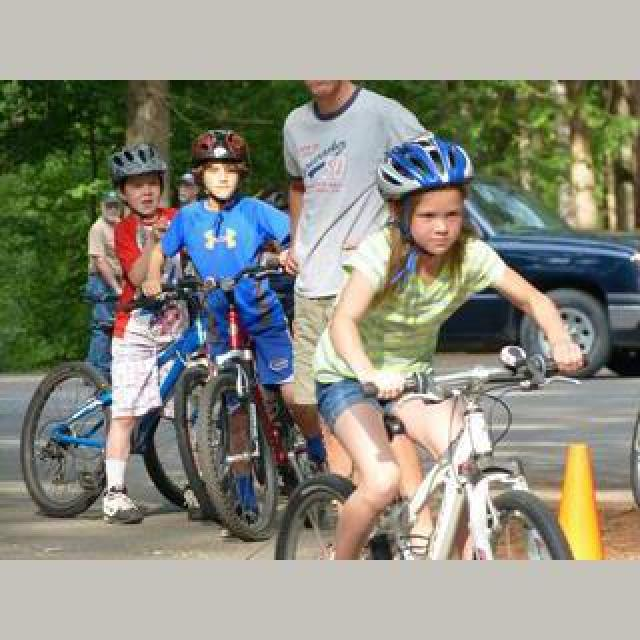Bus-Bike: (464, 180, 640, 380)
MC-Bike: (304, 142, 594, 544), (280, 84, 428, 534), (156, 124, 322, 514), (92, 142, 190, 524), (84, 188, 126, 376)
Person: (12, 260, 288, 530), (268, 348, 584, 560), (164, 266, 308, 546)
